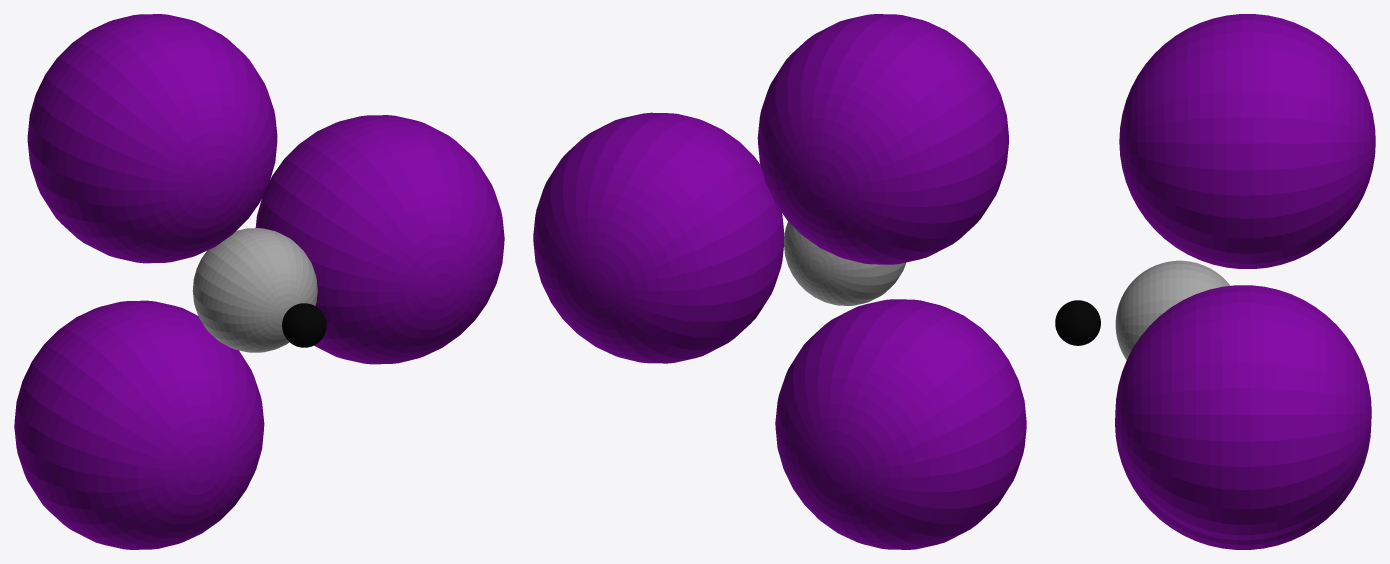
Rendered from Iodoform.glb.
3 renders of one model, left to right at view 1: azimuth 30°, elevation 25°; view 2: azimuth 150°, elevation 25°; view 3: azimuth 270°, elevation 25°, orthographic. The views are drawn at different scales.
Parts seen in each view (by area): view 1: world; view 2: world; view 3: world.
Part boxes in pixels (left/top/right/bottom): world: left=14, top=14, right=504, bottom=549; world: left=533, top=14, right=1026, bottom=549; world: left=1055, top=14, right=1375, bottom=549.
Size of the model in its own units: 5.91 by 6.26 by 3.5.
